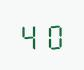four: (19, 20, 41, 50)
zero: (42, 19, 64, 49)
